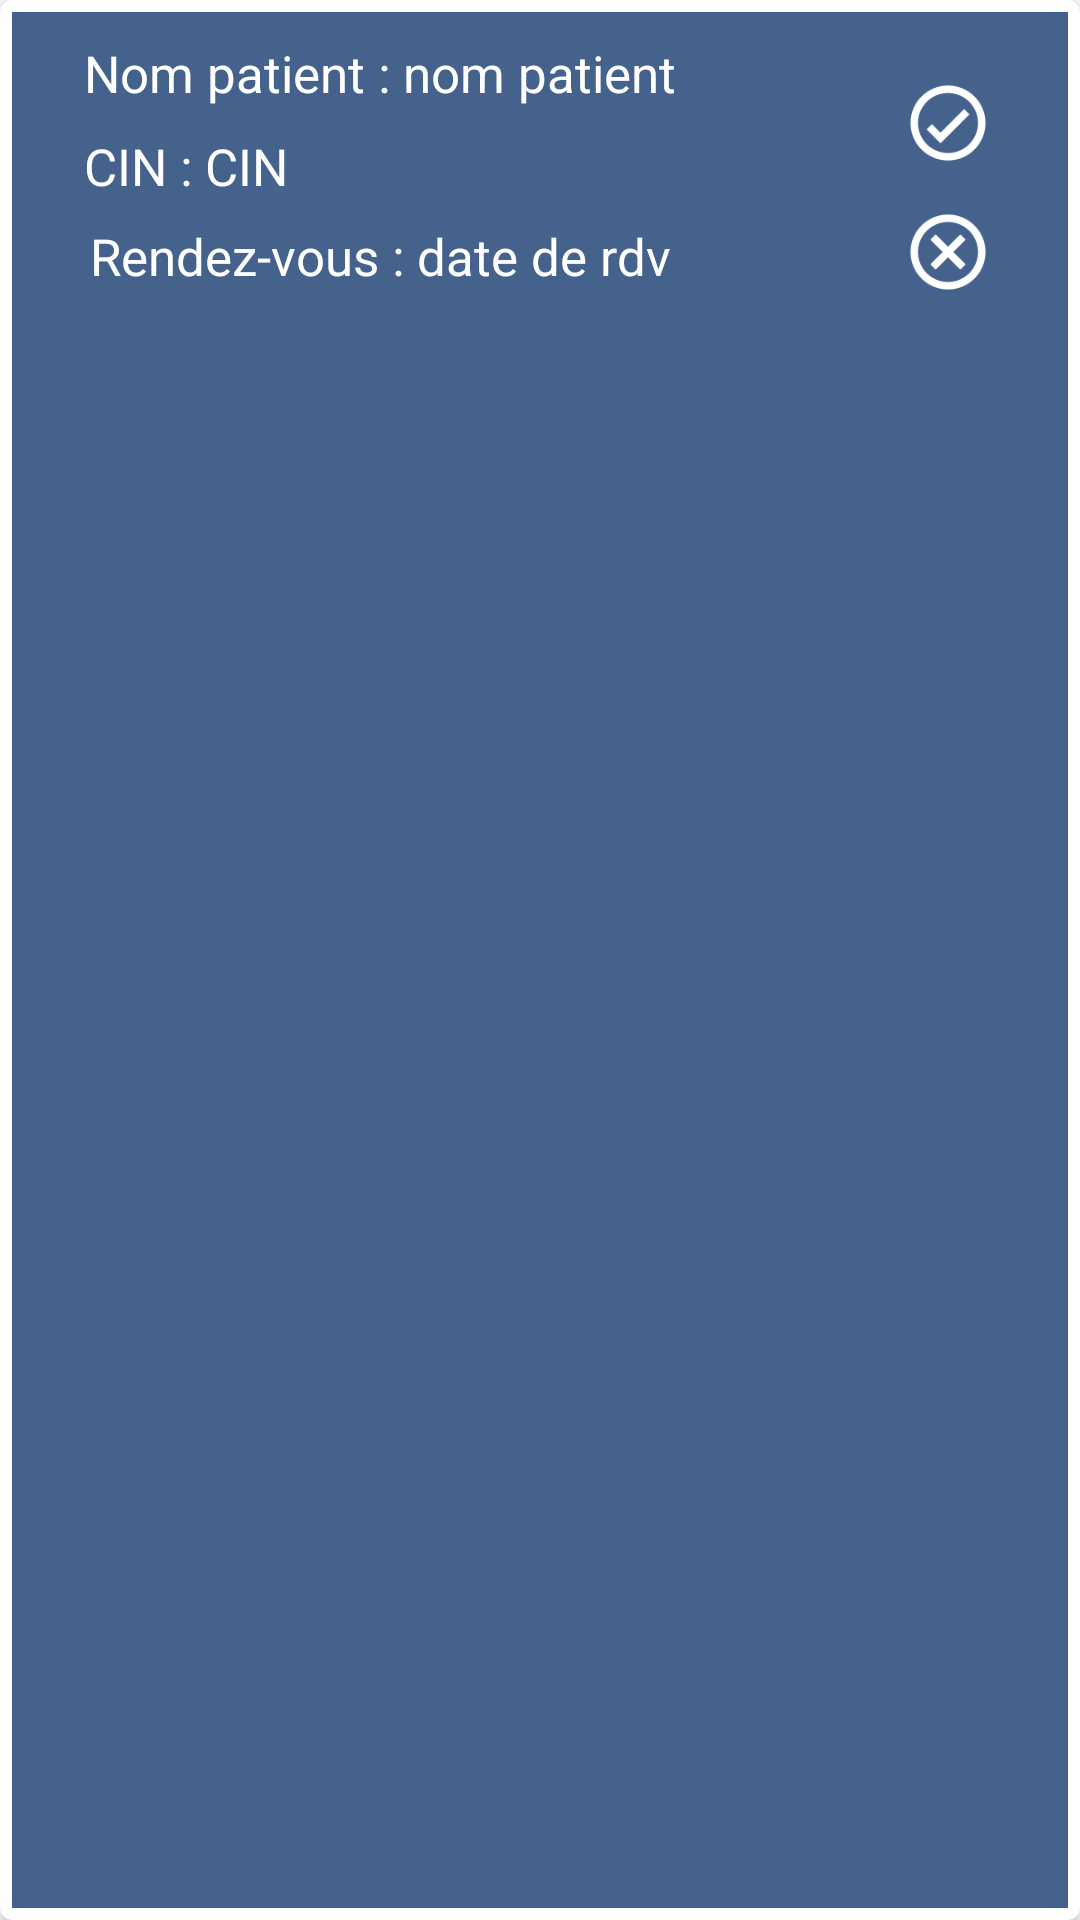

Icon bounding boxes for this 1080x1920 phone screenshot, format (x1, y1, x2, y2):
annuler: (910, 214, 986, 290)
